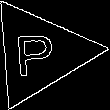P_N: (17, 27, 62, 79)
